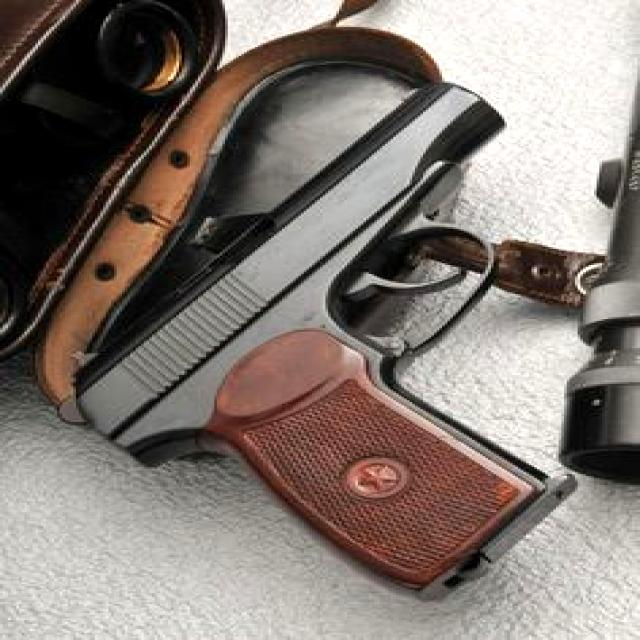semi automatic: (46, 83, 613, 607)
